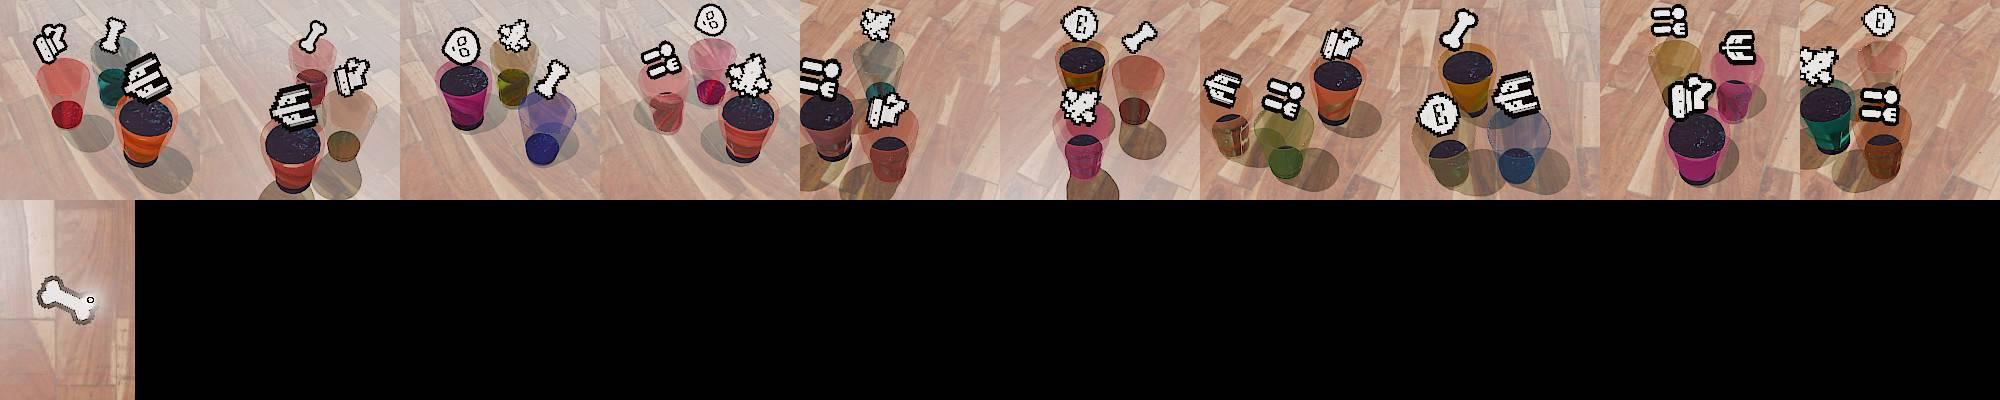icon: (34, 275, 101, 324), (1491, 68, 1542, 120), (121, 52, 173, 103), (1667, 71, 1718, 121), (268, 83, 319, 129), (724, 52, 772, 98), (1415, 90, 1460, 138), (798, 55, 843, 101), (1261, 74, 1304, 118), (1798, 45, 1842, 87), (1437, 8, 1478, 52), (1060, 85, 1102, 126), (866, 88, 908, 129), (1857, 85, 1901, 125), (1319, 24, 1364, 62), (532, 57, 570, 102), (640, 39, 682, 79), (332, 56, 371, 97), (441, 25, 481, 66), (33, 22, 70, 65), (1060, 5, 1099, 43), (1204, 68, 1241, 107), (496, 18, 534, 55), (858, 6, 897, 42), (1719, 29, 1758, 65), (1651, 4, 1687, 39), (1120, 19, 1157, 54), (1862, 4, 1898, 38), (694, 3, 728, 37), (98, 15, 128, 54), (297, 19, 328, 55)
